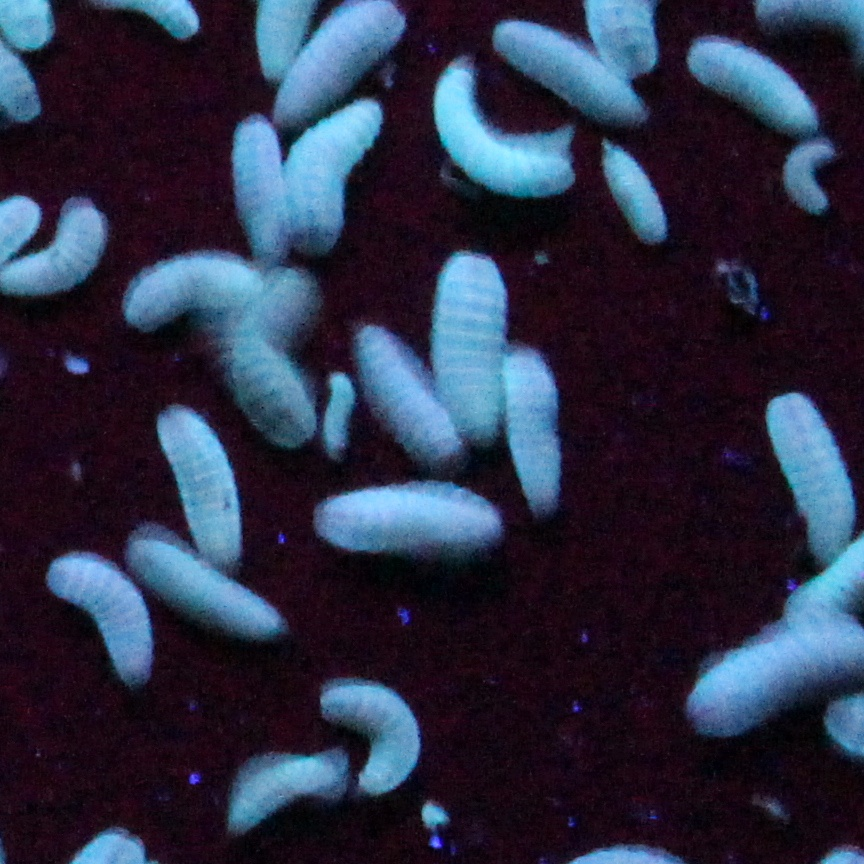larve: (426, 74, 578, 206), (121, 534, 289, 643), (489, 20, 655, 120), (41, 557, 169, 683), (263, 0, 398, 114), (766, 408, 862, 560), (152, 414, 249, 563), (435, 260, 503, 449), (321, 677, 429, 794), (366, 332, 469, 454), (684, 43, 832, 126), (298, 106, 372, 240), (223, 117, 295, 252), (226, 329, 318, 434), (509, 354, 572, 506), (218, 760, 346, 832), (9, 197, 101, 294), (321, 492, 501, 540), (135, 260, 258, 323), (595, 149, 678, 240), (786, 140, 844, 212)
